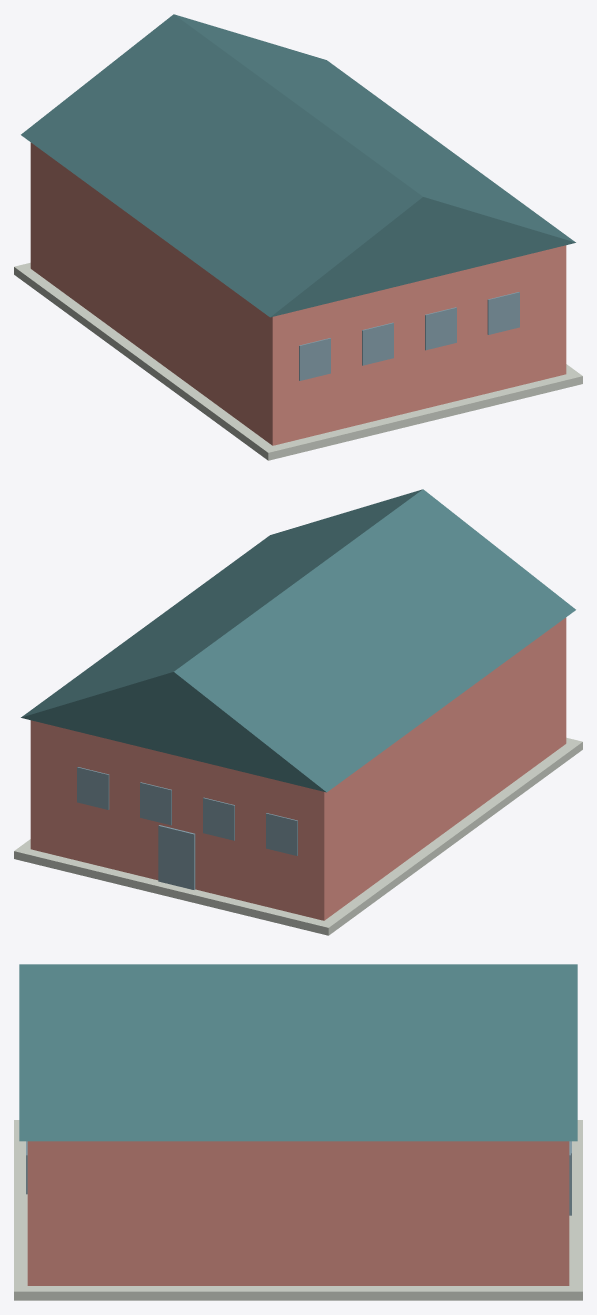
File: farm_barn.glb
3 renders of one model, top to bottom at view 1: azimuth 30°, elevation 25°; view 2: azimuth 150°, elevation 25°; view 3: azimuth 270°, elevation 25°, orthographic. The views are drawn at different scales.
Visible parts, largest first — view 1: farm_barn__roof, farm_barn__walls, farm_barn__plinth, farm_barn__window.006, farm_barn__window.002, farm_barn__window.004, farm_barn__window; view 2: farm_barn__roof, farm_barn__walls, farm_barn__plinth, farm_barn__front_door, farm_barn__window.007, farm_barn__window.003, farm_barn__window.005, farm_barn__window.001; view 3: farm_barn__roof, farm_barn__walls, farm_barn__plinth.
Part boxes in pixels (box(x1,y1,x2,y2)): farm_barn__roof: box(21, 14, 575, 317); farm_barn__walls: box(30, 142, 566, 445); farm_barn__plinth: box(14, 262, 582, 460); farm_barn__window.006: box(487, 292, 519, 334); farm_barn__window.002: box(362, 322, 393, 365); farm_barn__window.004: box(425, 307, 456, 350); farm_barn__window: box(299, 338, 330, 380); farm_barn__roof: box(21, 489, 575, 792); farm_barn__walls: box(30, 617, 566, 920); farm_barn__plinth: box(14, 737, 582, 935); farm_barn__front_door: box(158, 825, 195, 889); farm_barn__window.007: box(77, 767, 109, 809); farm_barn__window.003: box(203, 797, 234, 840); farm_barn__window.005: box(140, 782, 171, 825); farm_barn__window.001: box(266, 813, 297, 855); farm_barn__roof: box(19, 964, 577, 1141); farm_barn__walls: box(27, 1141, 569, 1285); farm_barn__plinth: box(14, 1120, 582, 1300).
Bounding box in the file's own units: 15 × 10.2 × 21.
